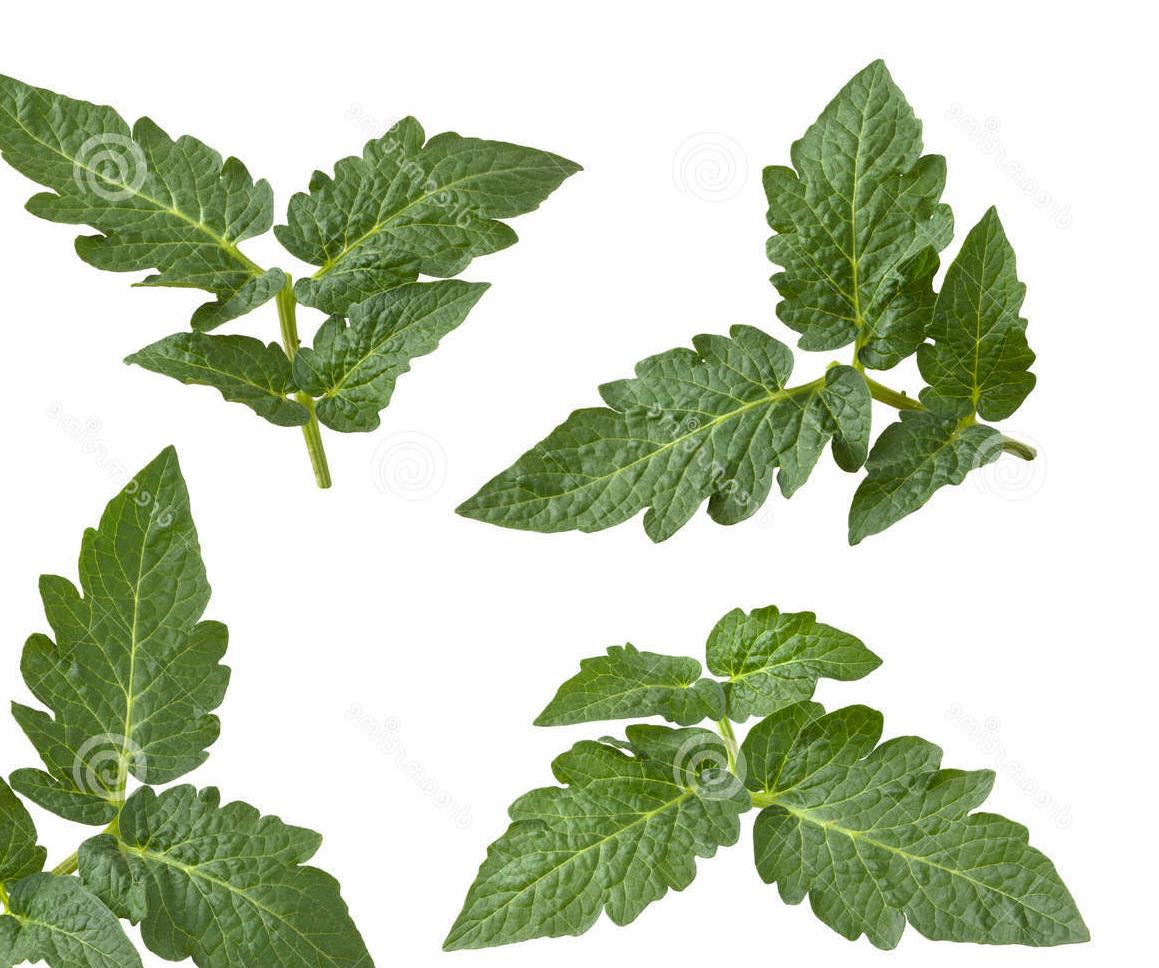Tomato leaf: (423, 315, 855, 576), (736, 680, 1098, 968), (0, 431, 235, 856), (408, 712, 735, 968), (733, 32, 977, 363), (0, 39, 279, 315), (279, 97, 615, 322)
